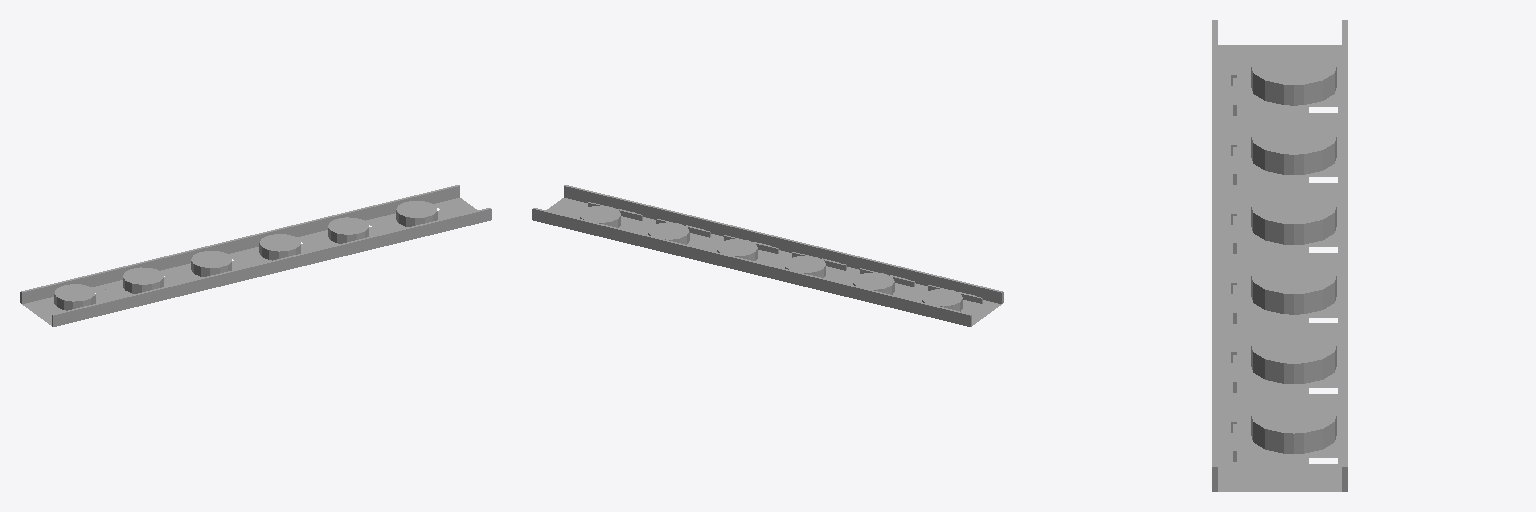
URDF robot description (generator_plant):
<?xml version="1.0"?>
<!-- 发电机厂静态场景（由 SolidWorks 导出，SW2URDF v1.5.1）。
     单 link 静态网格；去掉了导出的大质量 <inertial>（静态模型无需惯性）。
     网格沿用原 link 名 ground。 -->
<robot name="generator_plant">
  <link name="ground">
    <visual>
      <origin xyz="0 0 0" rpy="0 0 0"/>
      <geometry>
        <mesh
          filename="package://xczs_inspection_robot_description/meshes/scenes/generator_plant/ground.STL"/>
      </geometry>
      <material name="scene_grey">
        <color rgba="0.69804 0.69804 0.69804 1"/>
      </material>
    </visual>
    <collision>
      <origin xyz="0 0 0" rpy="0 0 0"/>
      <geometry>
        <mesh
          filename="package://xczs_inspection_robot_description/meshes/scenes/generator_plant/ground.STL"/>
      </geometry>
    </collision>
  </link>
  <gazebo>
    <static>true</static>
  </gazebo>
</robot>

--- What the picture shows (computed from the rendered views, not written in the file) ---
Views: 3 orthographic renders of the robot side by side, from view 1: azimuth 30°, elevation 25°; view 2: azimuth 150°, elevation 25°; view 3: azimuth 270°, elevation 25°.
Model generator_plant with 1 links and 0 joints (none), rooted at ground, posed every joint at zero.
Visible links, largest first — view 1: ground; view 2: ground; view 3: ground.
Link boxes in pixels (x1=…): ground: x1=20, y1=185, x2=491, y2=326; ground: x1=532, y1=185, x2=1003, y2=326; ground: x1=1212, y1=20, x2=1347, y2=491.
Size in the robot's own frame: 137 by 17.78 by 3.5 metres.
1 mesh visuals loaded from 1 distinct referenced files (1 ASCII STL).
